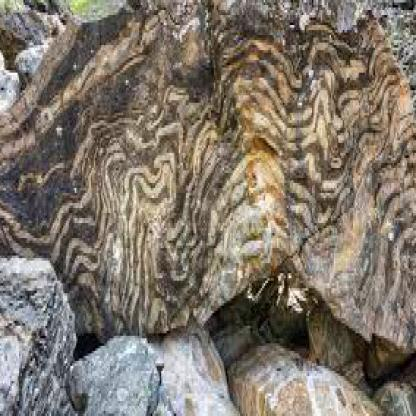Metamorphic_Quartize: (1, 3, 416, 344)
